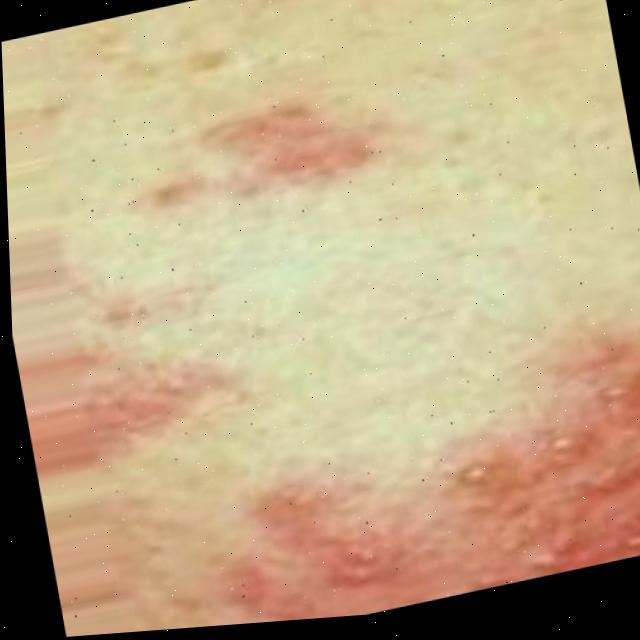Shingles: (192, 320, 640, 627), (191, 84, 377, 225), (77, 342, 225, 443)
